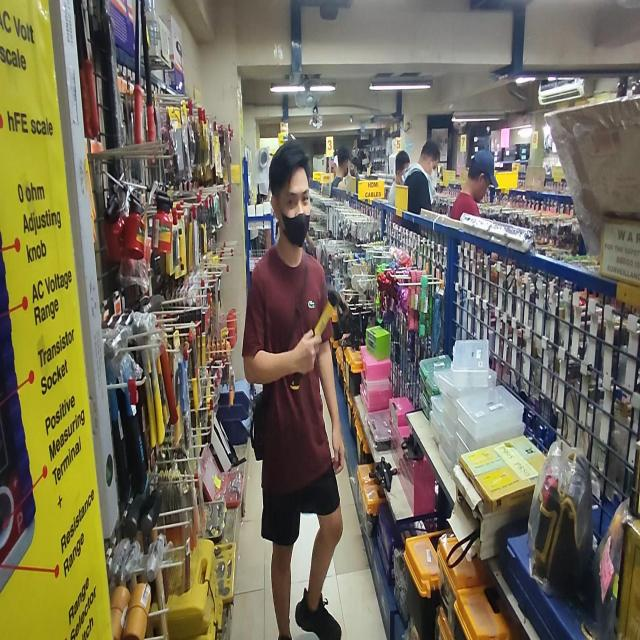hammer: (290, 289, 349, 390)
